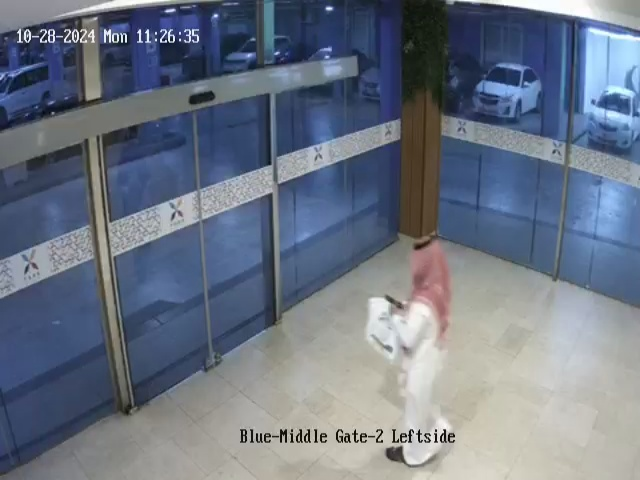male: (341, 197, 478, 475)
